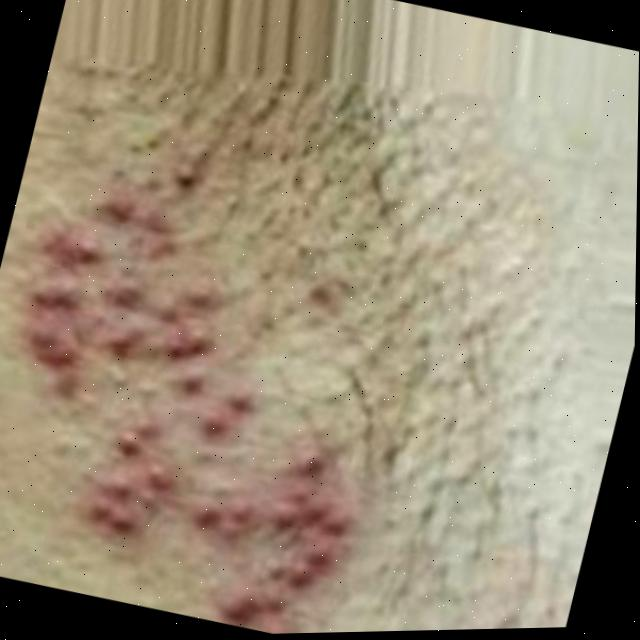Shingles: (0, 162, 421, 640)
